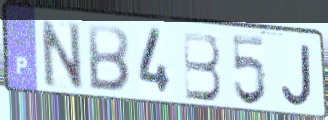4: (137, 25, 177, 101)
5: (231, 32, 269, 108)
B: (87, 22, 132, 94), (180, 30, 224, 103)
J: (279, 41, 315, 109)
N: (38, 17, 86, 91)
